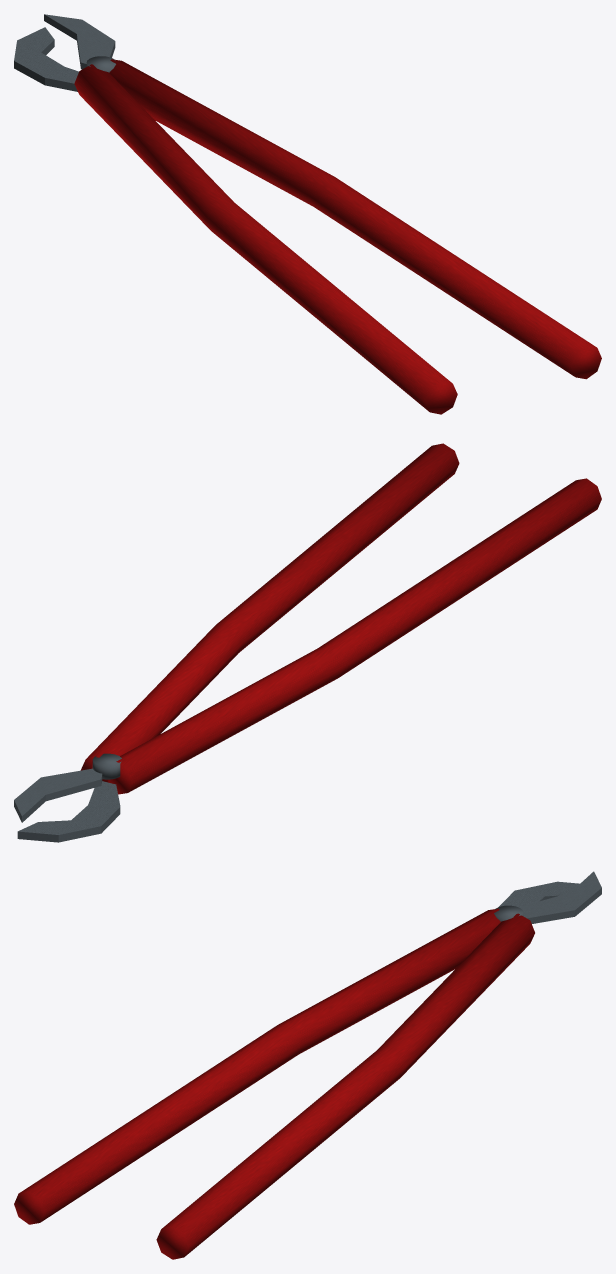
The model's file is Loppers.gltf.
The picture shows the model from 3 angles, top to bottom: view 1: azimuth 30°, elevation 25°; view 2: azimuth 150°, elevation 25°; view 3: azimuth 330°, elevation 25°; orthographic projection.
Visible parts, largest first — view 1: Loppers__Body; view 2: Loppers__Body; view 3: Loppers__Body.
Boxes of the visible parts, x1,y1,x2,y2 form: Loppers__Body: [14, 14, 601, 414]; Loppers__Body: [14, 443, 601, 842]; Loppers__Body: [14, 871, 601, 1259].
Bounding box in the file's own units: 0.1708 × 0.0308 × 0.8128.
1 material, 1 textured.
